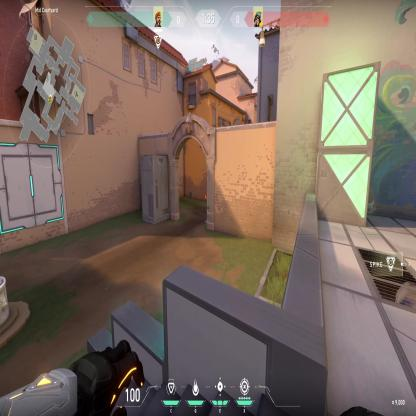enemy: (204, 193, 206, 221)
